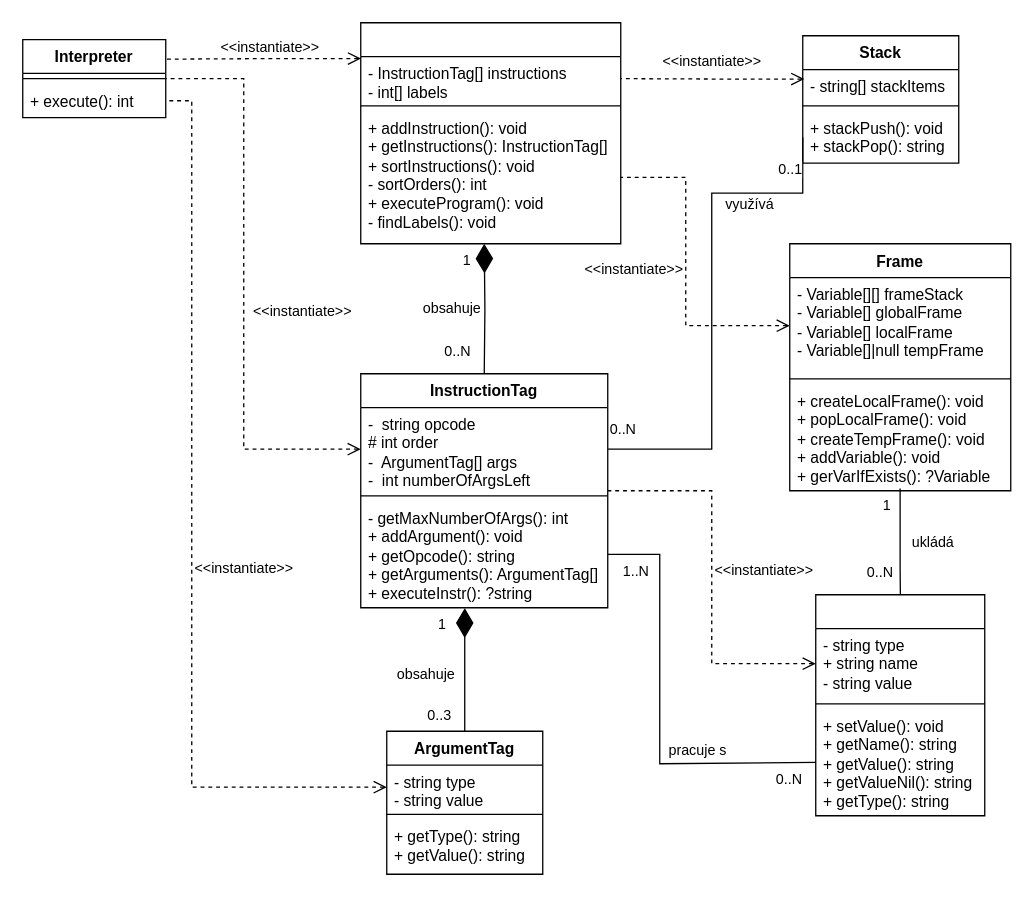
The diagram is 1034 pixels wide and 901 high, and some of its shapes have lost their labels. Here are the shapes that lost their labels. From the top down, the box of each, then its label:
(359, 21, 621, 244): ProgramTag
(814, 593, 985, 816): Variable
